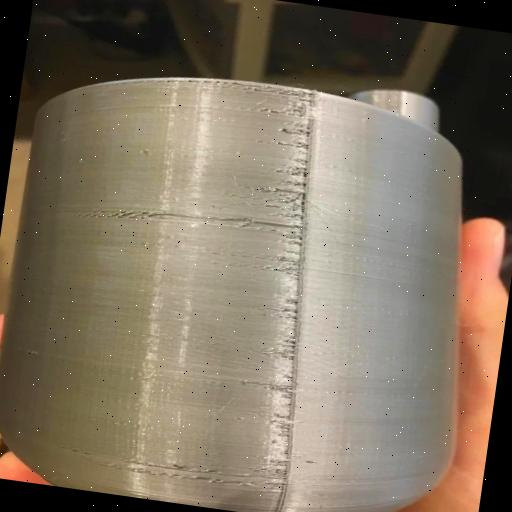cracks: (54, 60, 348, 508)
